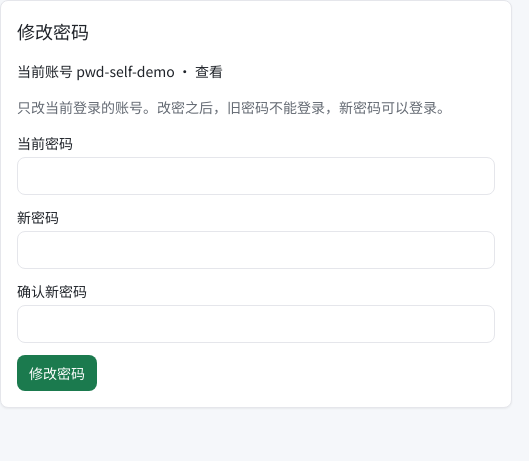
Scenario: ChangePasswordView › keeps a mismatched confirmation off the API
The width and height of the screenshot is (529, 461).
Type "PwdOld@123456" into the password field with test id "password-self-current" at (256, 176), box [17, 157, 495, 195]
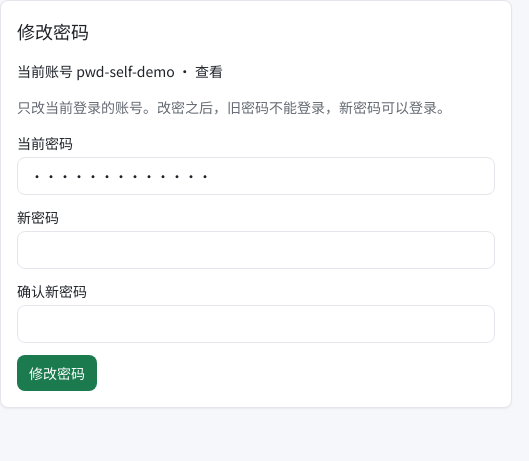
Type "PwdNew@123456" into the password field with test id "password-self-new" at (256, 250), box [17, 231, 495, 269]
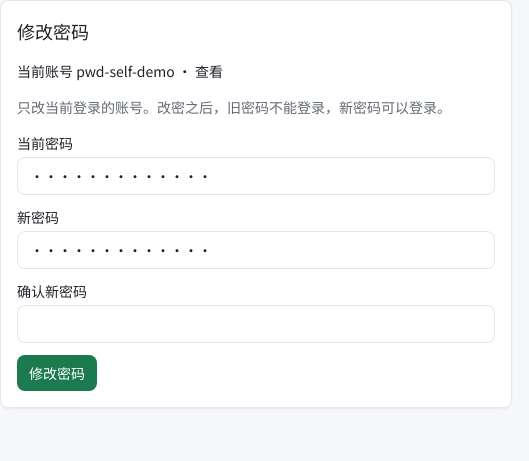
Type "Other@123456" into the password field with test id "password-self-confirm" at (256, 324), box [17, 305, 495, 343]
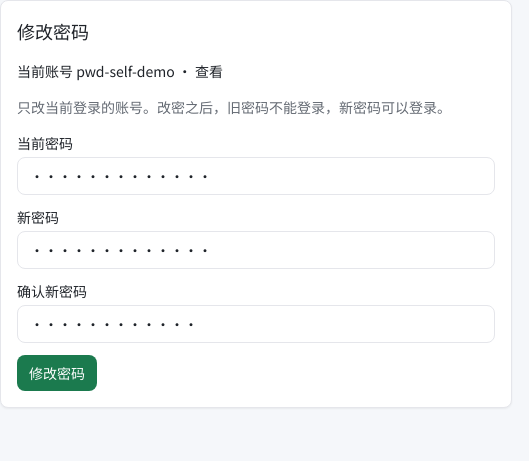
Submit the form with test id "password-self-form", box [17, 133, 495, 391]
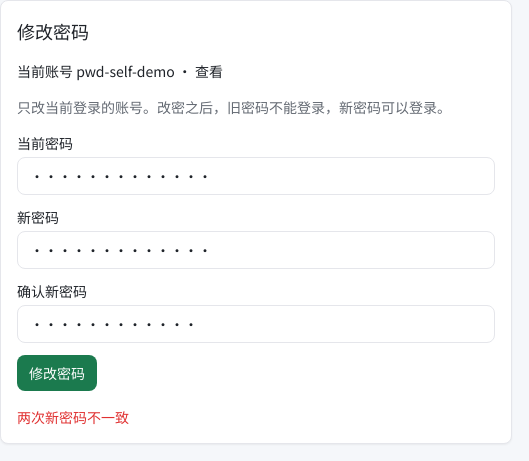
expect the text with test id "password-self-error" reads "两次新密码不一致": met, box [17, 407, 129, 427]
